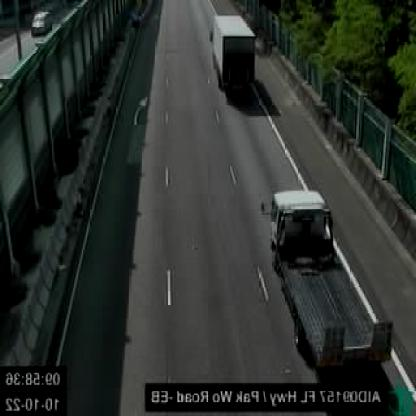Car: (30, 9, 52, 36)
Truck: (273, 188, 393, 372), (209, 14, 255, 95)
